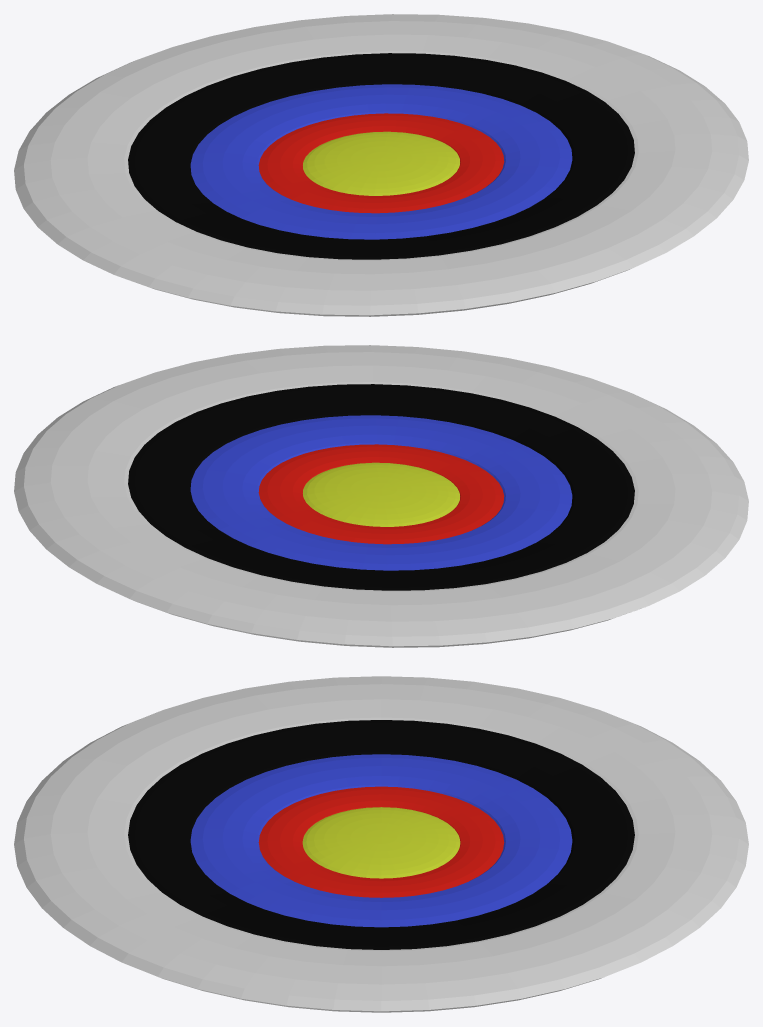
Rendered from landingspot.glb.
The picture shows the model from 3 angles, top to bottom: view 1: azimuth 30°, elevation 25°; view 2: azimuth 150°, elevation 25°; view 3: azimuth 270°, elevation 25°; orthographic projection. The views are drawn at different scales.
Visible parts, largest first — view 1: Torus, Torus.001, Torus.002, Torus.003, Sphere; view 2: Torus, Torus.001, Torus.002, Torus.003, Sphere; view 3: Torus, Torus.001, Torus.002, Torus.003, Sphere.
Part boxes in pixels (x1,y1,x2,y2): Torus: [14, 14, 748, 316]; Torus.001: [128, 53, 634, 259]; Torus.002: [190, 84, 572, 239]; Torus.003: [258, 113, 504, 213]; Sphere: [303, 131, 459, 195]; Torus: [14, 345, 748, 647]; Torus.001: [128, 384, 634, 590]; Torus.002: [190, 415, 572, 570]; Torus.003: [258, 444, 504, 544]; Sphere: [303, 462, 459, 526]; Torus: [14, 676, 748, 1012]; Torus.001: [128, 720, 634, 949]; Torus.002: [190, 754, 572, 927]; Torus.003: [258, 786, 504, 897]; Sphere: [302, 807, 460, 878].
Bounding box in the file's own units: 14 × 0.4582 × 13.03.
Materials: 5 (5 with a texture image).
